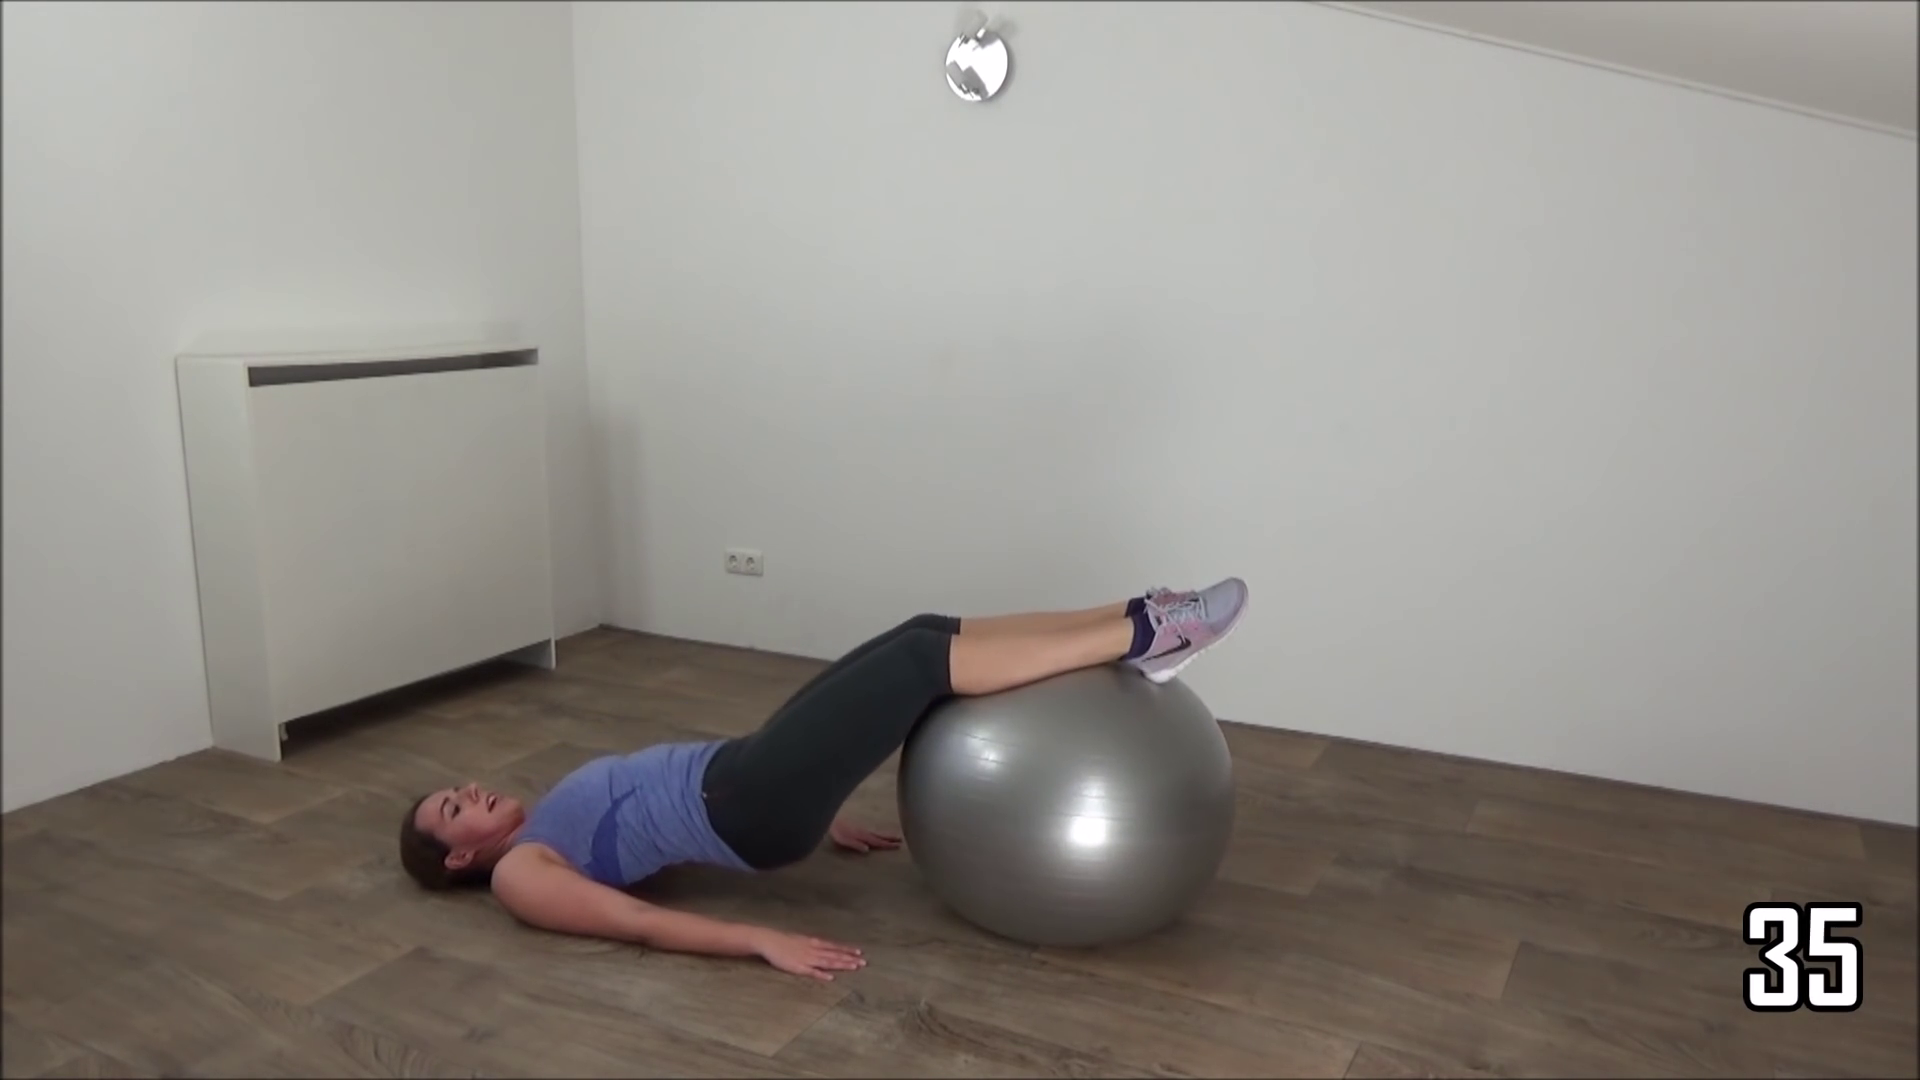yogaball: (887, 622, 1254, 963)
